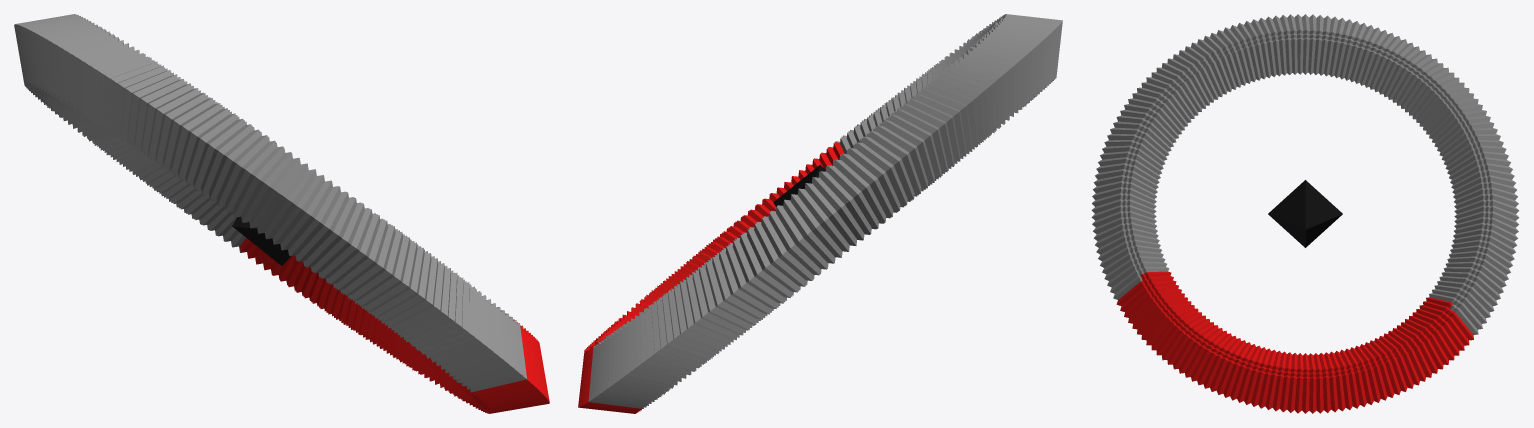
The model's file is local_feasible_centers.obj.
3 renders of one model, left to right at view 1: azimuth 30°, elevation 25°; view 2: azimuth 150°, elevation 25°; view 3: azimuth 270°, elevation 25°, orthographic. The views are drawn at different scales.
Parts seen in each view (by area): view 1: rejected_candidates, feasible_candidates, target_point_000214; view 2: rejected_candidates, feasible_candidates, target_point_000214; view 3: rejected_candidates, feasible_candidates, target_point_000214.
Boxes of the visible parts, box(x1,y1,x2,y2) form: rejected_candidates: box(14, 14, 526, 392); feasible_candidates: box(240, 238, 549, 413); target_point_000214: box(232, 216, 290, 265); rejected_candidates: box(588, 14, 1062, 408); feasible_candidates: box(578, 142, 844, 413); target_point_000214: box(773, 164, 825, 206); rejected_candidates: box(1091, 14, 1519, 334); feasible_candidates: box(1116, 271, 1473, 413); target_point_000214: box(1268, 180, 1342, 247).
Bounding box in the file's own units: 0.0166 × 0.0161 × 0.023.
